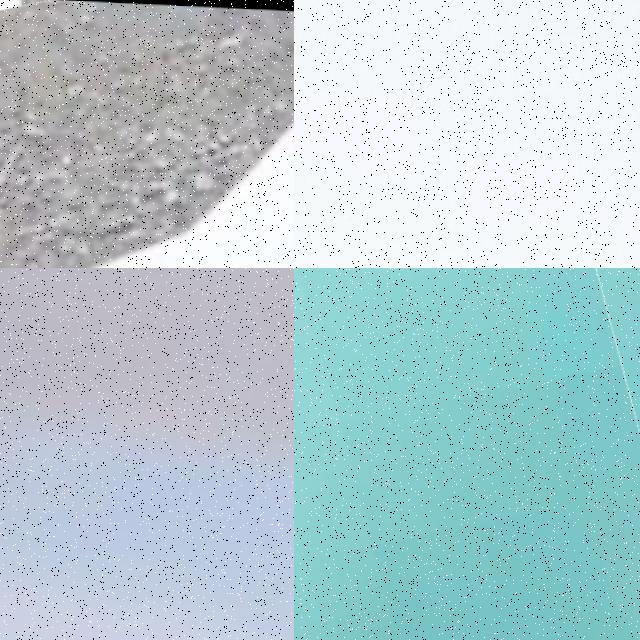0: (0, 0, 294, 268)
drone: (294, 268, 640, 640)
